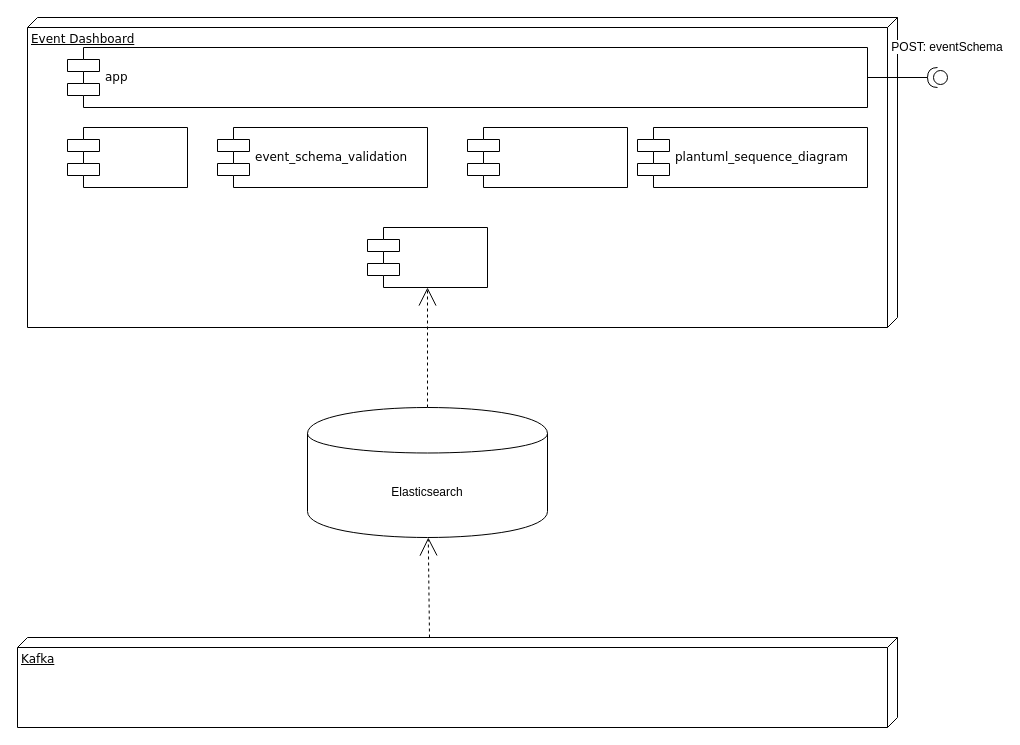
The diagram is 1020 pixels wide and 745 high, and some of its shapes have lost their labels. Here are the shapes that lost their labels. From the top down, the centre of each, then its label:
the point at 127,157: charts
the point at 547,157: sequence_diagram
the point at 427,257: es_handler
